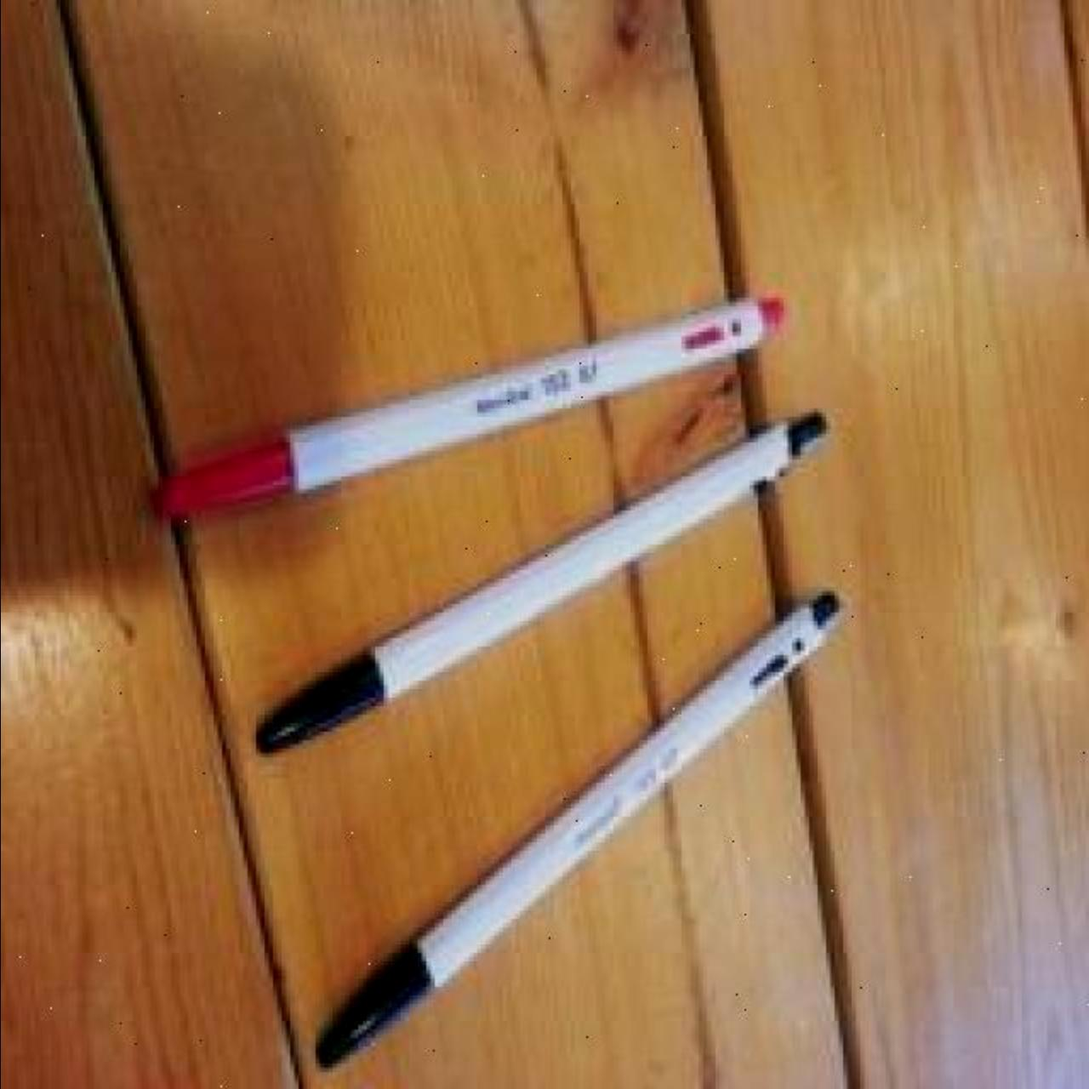pen: (305, 590, 846, 1072), (250, 403, 829, 752)
